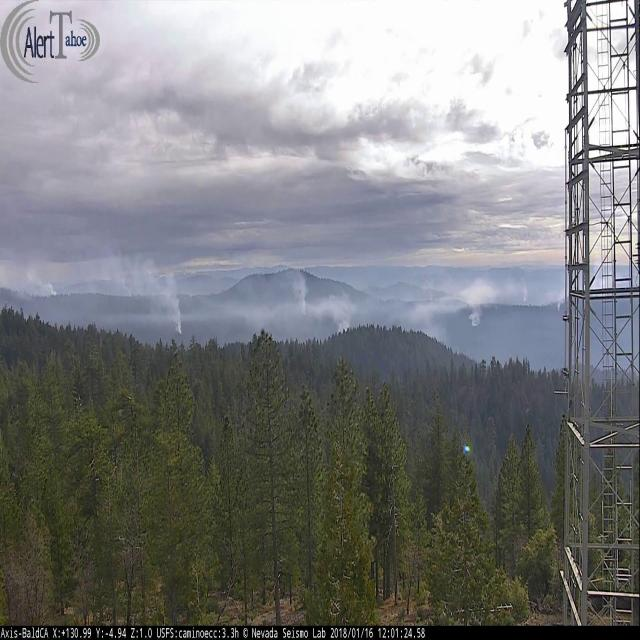smoke: (90, 210, 186, 338), (266, 248, 312, 316), (311, 285, 360, 337), (458, 266, 488, 331), (21, 260, 61, 301), (509, 257, 534, 308), (412, 268, 443, 309)
